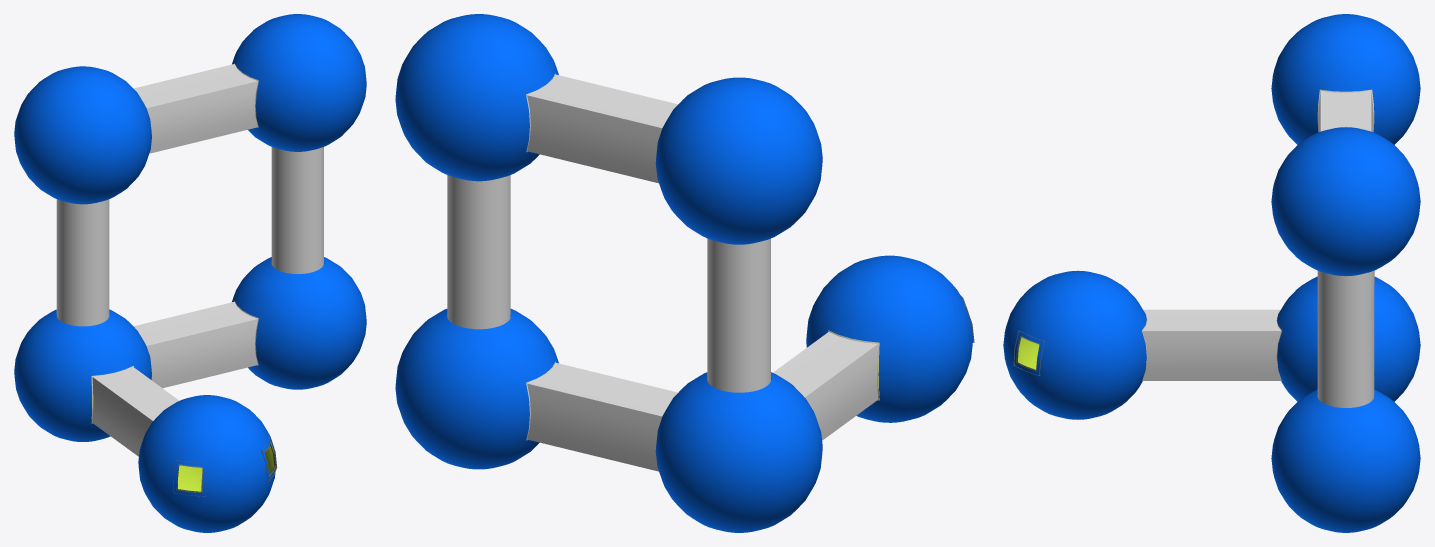
Rendered from space_station.fbx.
3 views of the same model, side by side, from view 1: azimuth 30°, elevation 25°; view 2: azimuth 150°, elevation 25°; view 3: azimuth 270°, elevation 25° (orthographic). The views are drawn at different scales.
Visible parts, largest first — view 1: CommandRoom, LaserRoom, PuzzleUpRoom, PuzzleDownRoom, TargetRoom, TunnelLaserToPuzzle, TunnelTargetToPuzzle, TunnelLaser, TunnelPuzzle, TunnelCommand; view 2: LaserRoom, TargetRoom, PuzzleUpRoom, PuzzleDownRoom, CommandRoom, TunnelLaserToPuzzle, TunnelTargetToPuzzle, TunnelLaser, TunnelPuzzle, TunnelCommand; view 3: PuzzleUpRoom, CommandRoom, PuzzleDownRoom, LaserRoom, TunnelCommand, TargetRoom, TunnelPuzzle, TunnelLaserToPuzzle.
Part boxes in pixels (box(x1,y1,x2,y2)): CommandRoom: box(138, 395, 277, 532); LaserRoom: box(14, 66, 151, 204); PuzzleUpRoom: box(232, 14, 366, 151); PuzzleDownRoom: box(232, 257, 366, 389); TargetRoom: box(14, 309, 151, 441); TunnelLaserToPuzzle: box(133, 63, 258, 153); TunnelTargetToPuzzle: box(134, 301, 258, 388); TunnelLaser: box(56, 199, 109, 326); TunnelPuzzle: box(271, 147, 323, 273); TunnelCommand: box(91, 366, 179, 456); LaserRoom: box(655, 77, 822, 244); TargetRoom: box(655, 372, 822, 532); PuzzleUpRoom: box(395, 14, 558, 181); PuzzleDownRoom: box(395, 308, 558, 469); CommandRoom: box(806, 255, 974, 422); TunnelLaserToPuzzle: box(526, 73, 677, 183); TunnelTargetToPuzzle: box(526, 361, 677, 471); TunnelLaser: box(707, 238, 770, 392); TunnelPuzzle: box(447, 175, 510, 329); TunnelCommand: box(773, 330, 879, 440); PuzzleUpRoom: box(1271, 127, 1420, 276); CommandRoom: box(1003, 270, 1146, 419); PuzzleDownRoom: box(1271, 389, 1420, 532); LaserRoom: box(1271, 14, 1420, 144); TunnelCommand: box(1142, 309, 1282, 381); TargetRoom: box(1277, 276, 1420, 401); TunnelPuzzle: box(1317, 271, 1374, 407); TunnelLaserToPuzzle: box(1317, 89, 1374, 132).
Size of the model in its own units: 1121 by 1163 by 1122.
